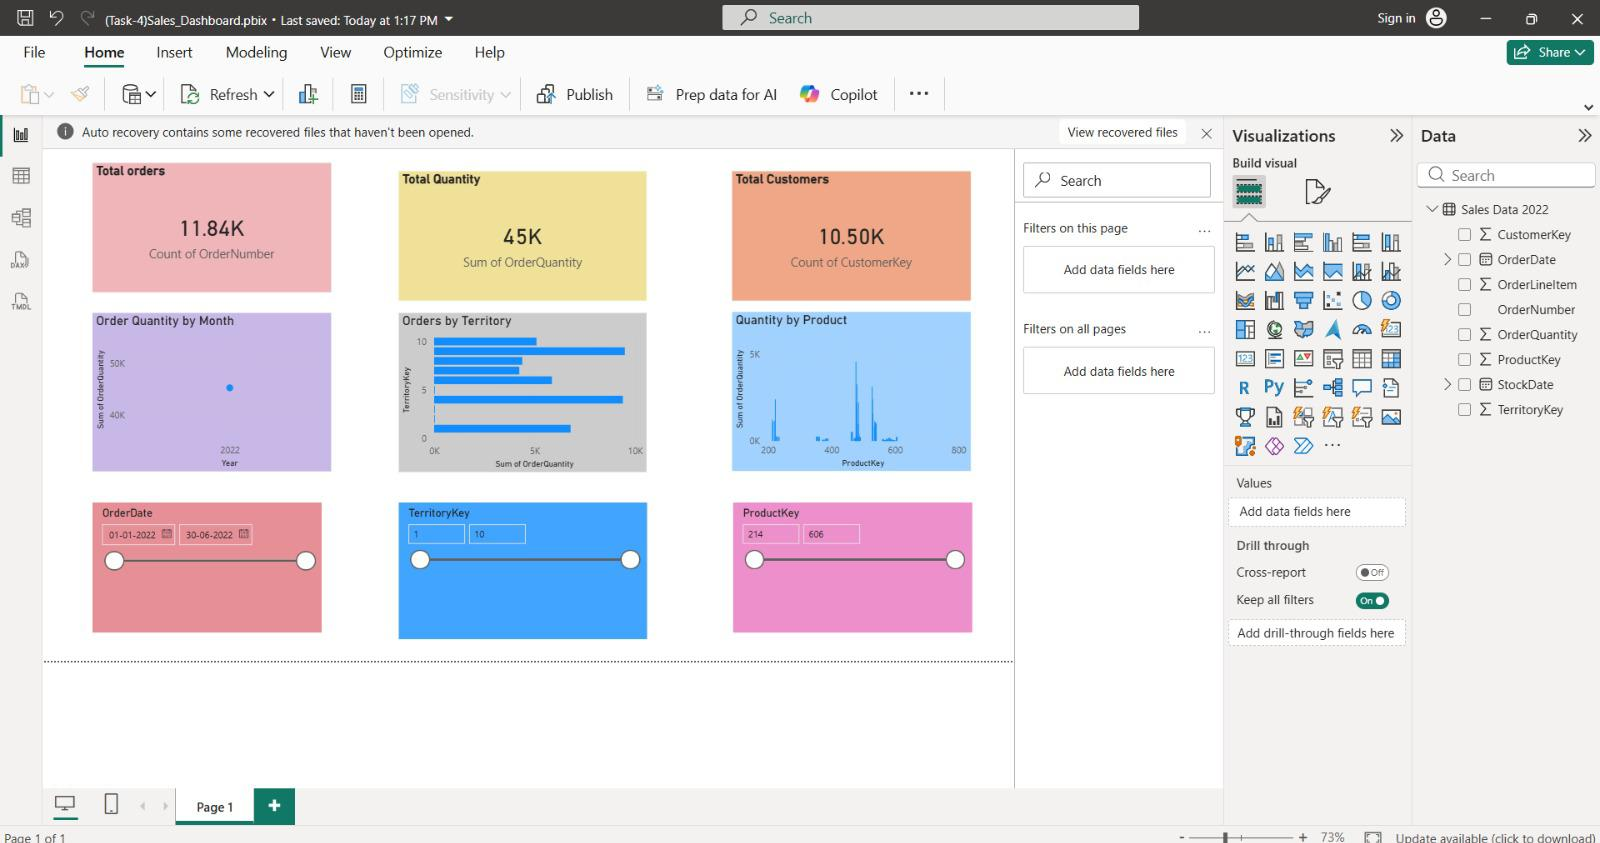

What the dashboard file says about the page in this screenshot:
{"tool":"powerbi","page":{"name":"Page 1","canvas":[1280,720],"ordinal":0},"visuals":[{"type":"card","title":"Total orders","fields":{"Values":["Count(Sales Data 2022.OrderNumber)"]},"box":[65.9,63.1,314.2,170.2],"z":0},{"type":"card","title":"Total Quantity","fields":{"Values":["Sum(Sales Data 2022.OrderQuantity)"]},"box":[469.3,74.1,326.6,170.2],"z":1},{"type":"card","title":"Total Customers","fields":{"Values":["Count(Sales Data 2022.CustomerKey)"]},"box":[908.4,74.1,314.2,170.2],"z":2},{"type":"lineChart","title":"Order Quantity by Month","fields":{"Category":["Sales Data 2022.OrderDate.Variation.Date Hierarchy.Year","Sales Data 2022.OrderDate.Variation.Date Hierarchy.Quarter","Sales Data 2022.OrderDate.Variation.Date Hierarchy.Month","Sales Data 2022.OrderDate.Variation.Date Hierarchy.Day"],"Y":["Sum(Sales Data 2022.OrderQuantity)"]},"box":[65.9,260.7,314.2,208.6],"z":3},{"type":"clusteredBarChart","title":"Orders by Territory","fields":{"Category":["Sales Data 2022.TerritoryKey"],"Y":["Sum(Sales Data 2022.OrderQuantity)"]},"box":[469.3,260.7,326.6,209.9],"z":4},{"type":"clusteredColumnChart","title":"Quantity by Product","fields":{"Category":["Sales Data 2022.ProductKey"],"Y":["Sum(Sales Data 2022.OrderQuantity)"]},"box":[908.4,259.3,314.2,209.9],"z":5},{"type":"slicer","fields":{"Values":["Sales Data 2022.OrderDate"]},"box":[65.9,510.5,301.9,171.5],"z":6},{"type":"slicer","fields":{"Values":["Sales Data 2022.TerritoryKey"]},"box":[469.3,510.5,326.6,179.8],"z":7},{"type":"slicer","fields":{"Values":["Sales Data 2022.ProductKey"]},"box":[909.8,510.5,314.2,171.5],"z":8}]}

Visuals, with their boxes on the page's 1280x720 design canvas (x1, y1, x2, y2). These are canvas units, not pixel positions in the 1600x843 screenshot, which may show the page scaled, cropped or inside an application window:
"Total orders" card: 66,63,380,233
"Total Quantity" card: 469,74,796,244
"Total Customers" card: 908,74,1223,244
"Order Quantity by Month" lineChart: 66,261,380,469
"Orders by Territory" clusteredBarChart: 469,261,796,471
"Quantity by Product" clusteredColumnChart: 908,259,1223,469
slicer - Sales Data 2022.OrderDate: 66,510,368,682
slicer - Sales Data 2022.TerritoryKey: 469,510,796,690
slicer - Sales Data 2022.ProductKey: 910,510,1224,682
